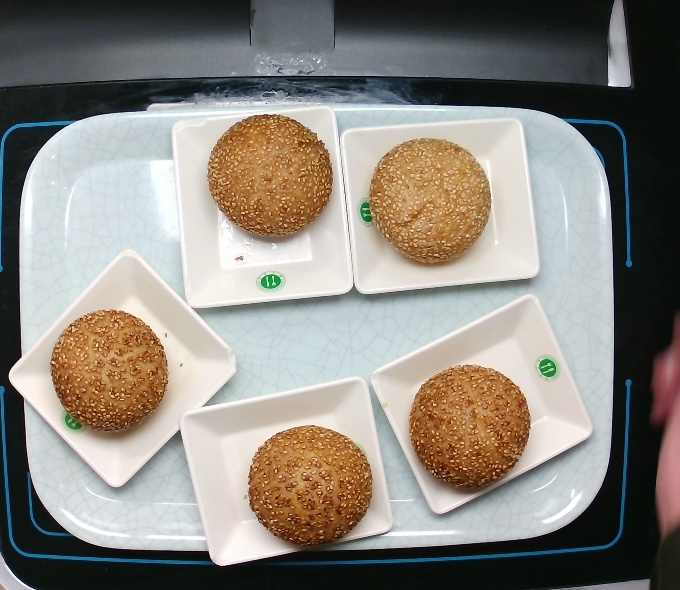wcq-MaCi: (31, 298, 175, 439), (197, 105, 335, 249), (365, 143, 499, 272), (241, 423, 379, 546), (414, 350, 530, 495)
